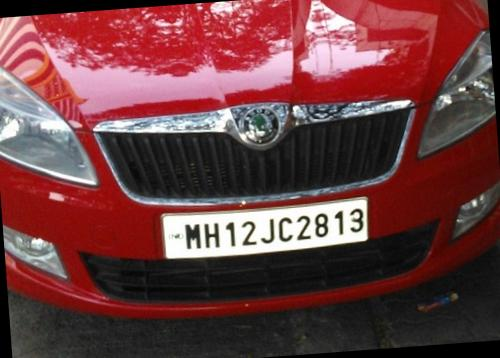plate: (155, 186, 382, 265)
